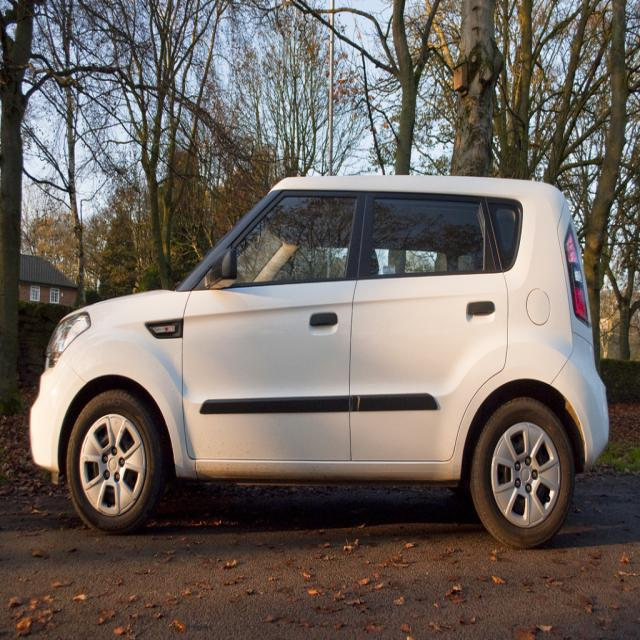car: (47, 174, 615, 556)
